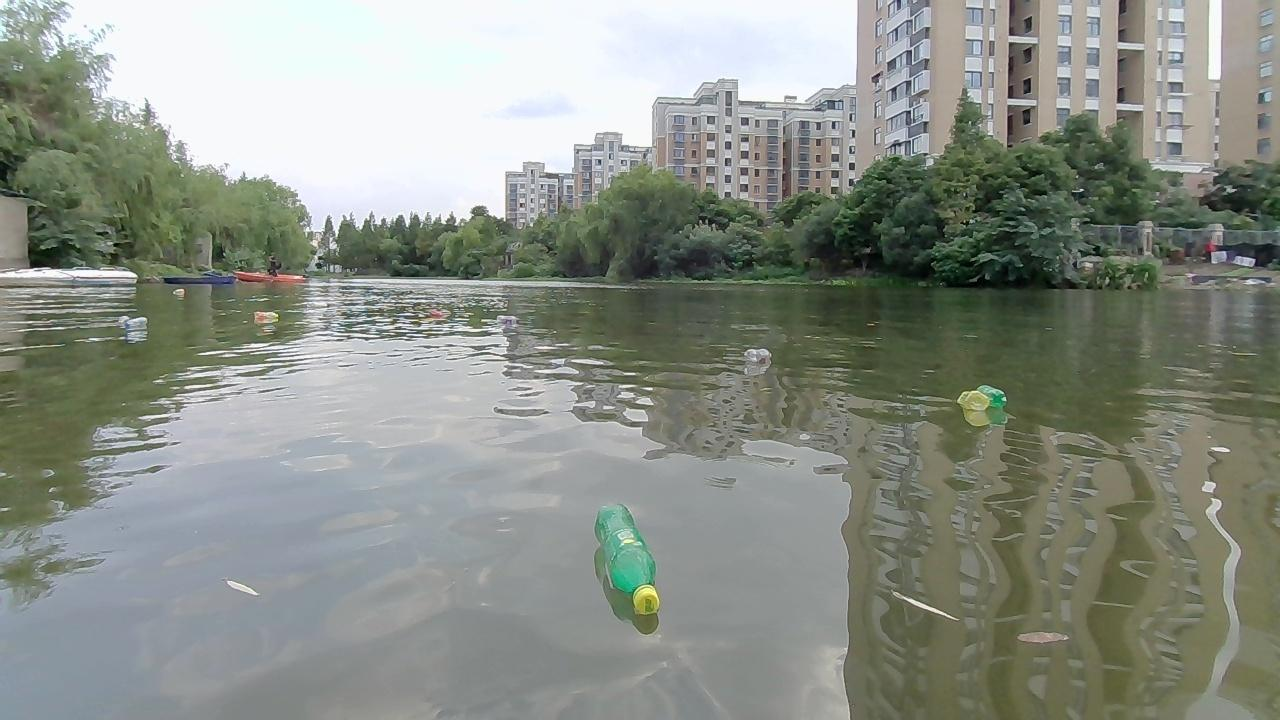bottle: (591, 502, 671, 619), (974, 379, 1007, 415), (962, 388, 991, 420), (743, 343, 770, 365), (419, 306, 451, 322), (493, 312, 521, 326), (252, 309, 279, 322), (168, 285, 186, 302), (127, 317, 146, 327)
